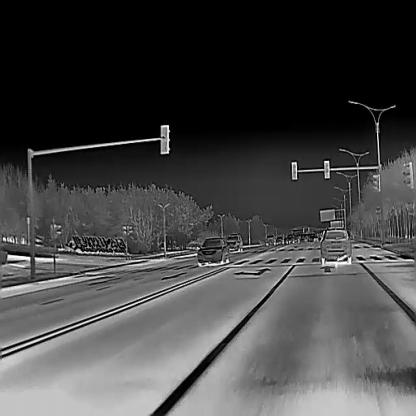car: (318, 226, 352, 262), (196, 235, 230, 264), (226, 232, 243, 252), (265, 234, 276, 245), (276, 235, 284, 245), (284, 235, 294, 242), (299, 236, 305, 242), (294, 237, 299, 242)
